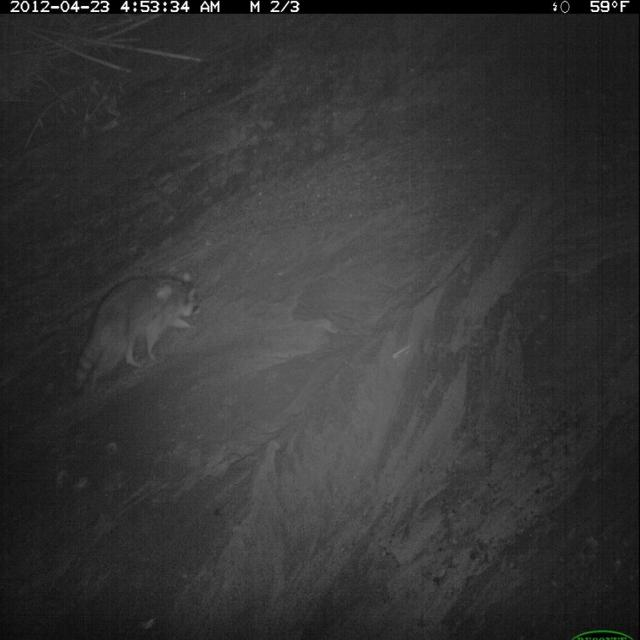raccoon: (72, 264, 202, 400)
